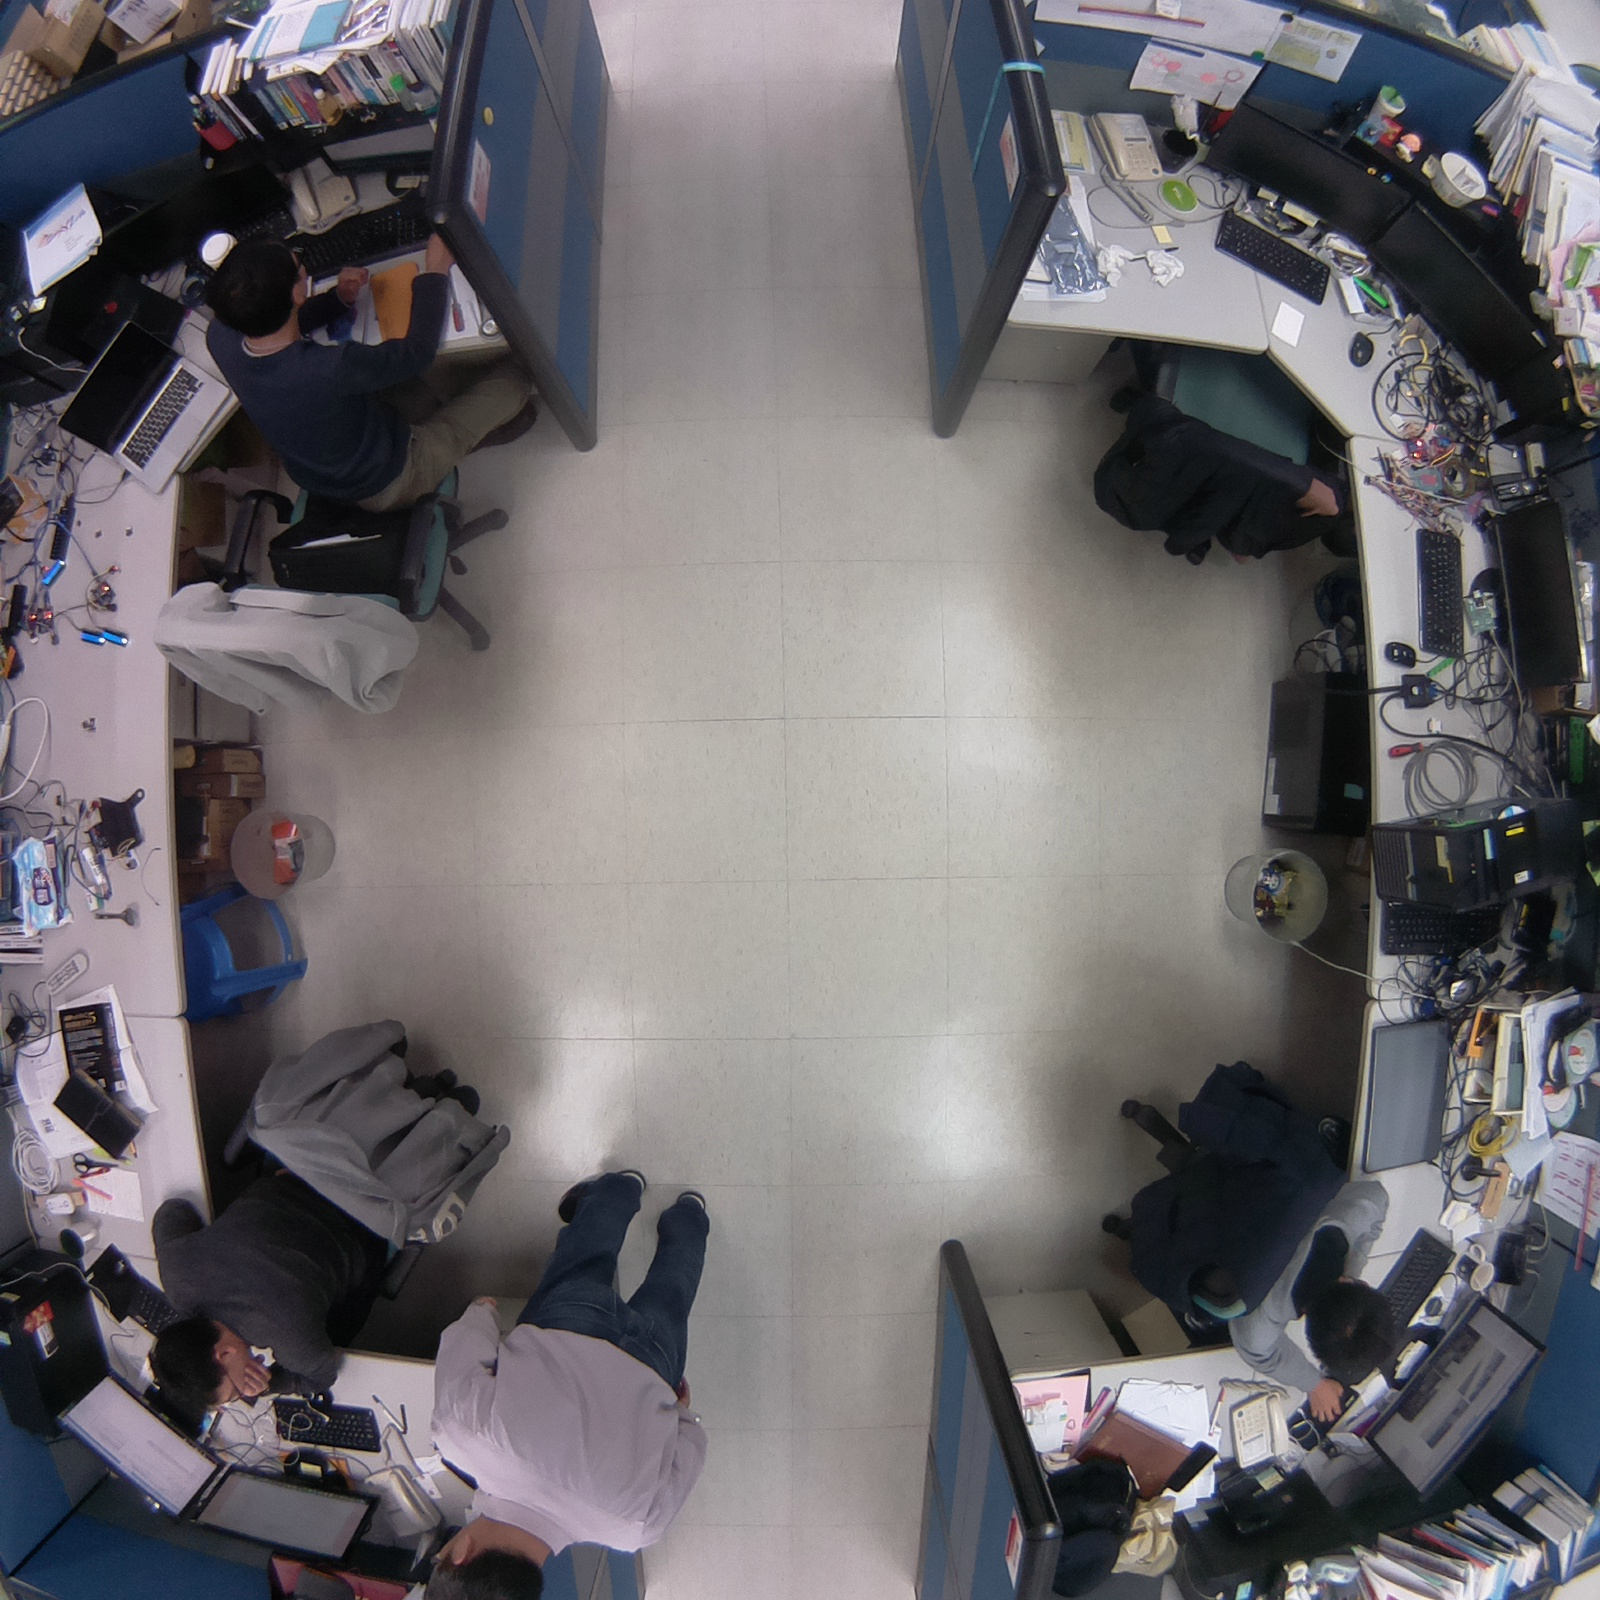chair: (1086, 306, 1350, 578)
head: (135, 1307, 253, 1424), (195, 234, 324, 334), (1295, 1276, 1405, 1388), (414, 1524, 550, 1600)
sitting: (135, 227, 558, 729), (140, 999, 522, 1423), (1078, 1042, 1421, 1423)
standing: (414, 1155, 724, 1600)
